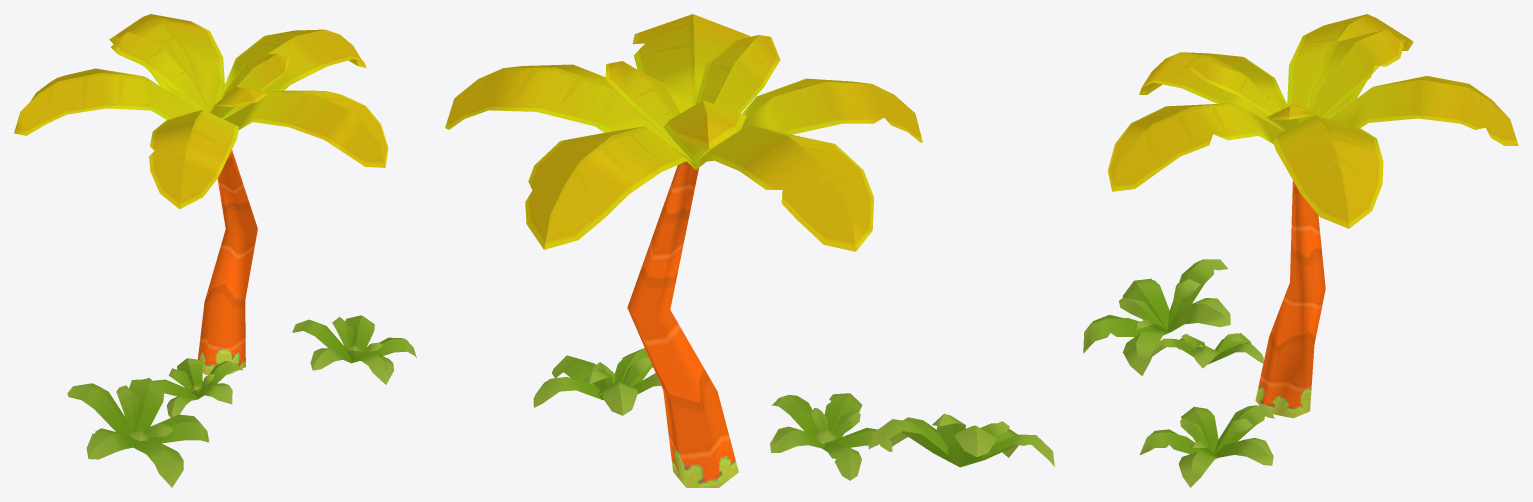
File: tree2.glb
3 renders of one model, left to right at view 1: azimuth 30°, elevation 25°; view 2: azimuth 150°, elevation 25°; view 3: azimuth 270°, elevation 25°, orthographic. The views are drawn at different scales.
Visible parts, largest first — view 1: Mesh_18.002_palm_tree.001_0, bgr_island_brawl_ball_props_right.037_grass_2.001_0.002, bgr_island_brawl_ball_props_right.037_grass_2.001_0, bgr_island_brawl_ball_props_right.037_grass_2.001_0.001; view 2: Mesh_18.002_palm_tree.001_0, bgr_island_brawl_ball_props_right.037_grass_2.001_0.001, bgr_island_brawl_ball_props_right.037_grass_2.001_0.002, bgr_island_brawl_ball_props_right.037_grass_2.001_0; view 3: Mesh_18.002_palm_tree.001_0, bgr_island_brawl_ball_props_right.037_grass_2.001_0.002, bgr_island_brawl_ball_props_right.037_grass_2.001_0, bgr_island_brawl_ball_props_right.037_grass_2.001_0.001.
Boxes of the visible parts, x1,y1,x2,y2 form: Mesh_18.002_palm_tree.001_0: (14,14,388,375); bgr_island_brawl_ball_props_right.037_grass_2.001_0.002: (67,378,209,487); bgr_island_brawl_ball_props_right.037_grass_2.001_0: (292,315,416,384); bgr_island_brawl_ball_props_right.037_grass_2.001_0.001: (153,358,243,417); Mesh_18.002_palm_tree.001_0: (445,14,922,487); bgr_island_brawl_ball_props_right.037_grass_2.001_0.001: (770,393,892,480); bgr_island_brawl_ball_props_right.037_grass_2.001_0.002: (868,413,1054,467); bgr_island_brawl_ball_props_right.037_grass_2.001_0: (533,348,660,415); Mesh_18.002_palm_tree.001_0: (1108,14,1518,418); bgr_island_brawl_ball_props_right.037_grass_2.001_0.002: (1083,259,1230,375); bgr_island_brawl_ball_props_right.037_grass_2.001_0: (1140,405,1274,487); bgr_island_brawl_ball_props_right.037_grass_2.001_0.001: (1150,333,1263,368).
Bounding box in the file's own units: 5.52 × 4.85 × 5.12.
Materials: 2 (2 with a texture image).
